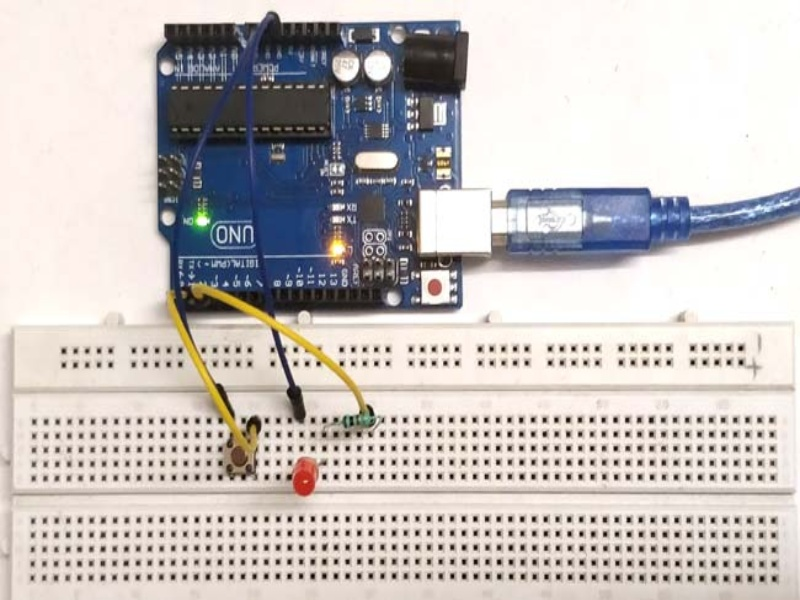uno: (148, 15, 476, 315)
